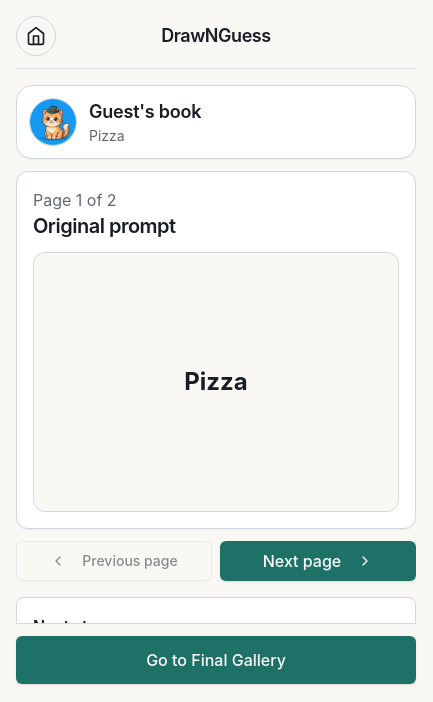
Test case: DrawNGuessMultiplayerView › shows each player only their own presentation book with local page controls
Expected: the text "Guest's book" is shown, [89,98,201,126]
Click the button "Next page" at (318, 561), box [220,541,416,581]
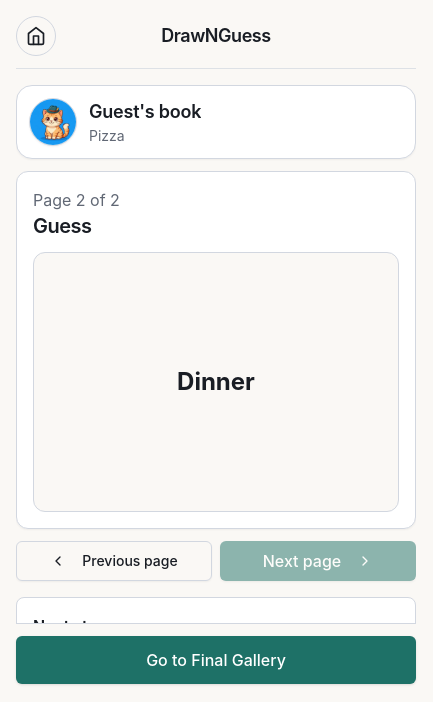
Now the text "Dinner" is shown, box [177,366,255,398]
